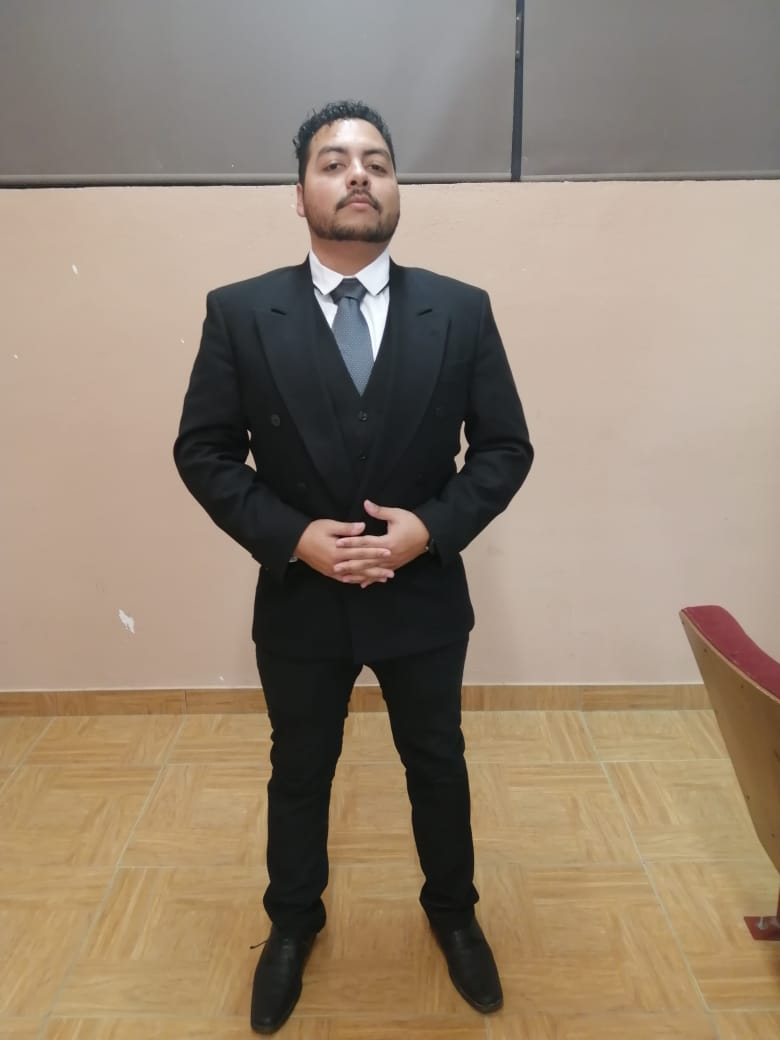Yoshi: (146, 69, 568, 620)
